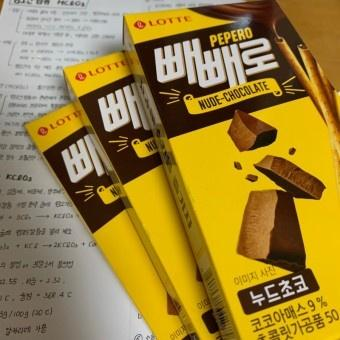snack: (122, 0, 340, 340)
